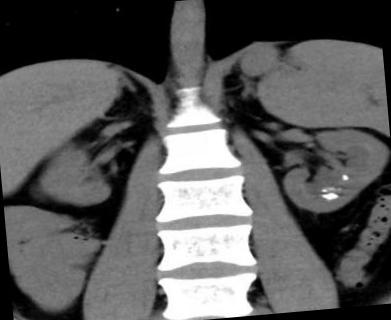Tas_Var: (320, 192, 339, 201), (340, 172, 350, 184), (319, 188, 328, 194), (327, 186, 336, 192), (336, 186, 344, 192)
